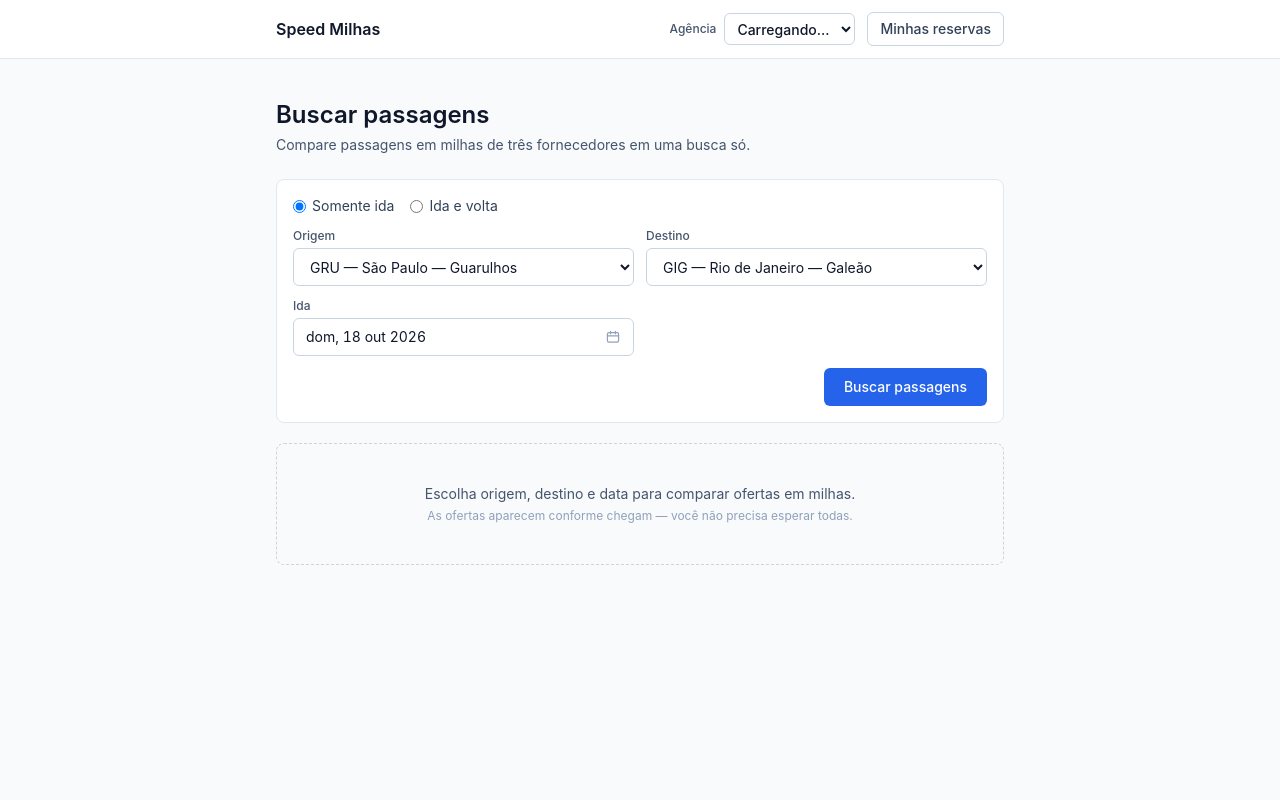
it: E2E - Busca de passagens › deve exibir o campo de volta ao selecionar ida e volta
// Seleciona a opção de viagem de ida e volta
Step 1. Check the radio button labelled "Ida e volta" → [418, 207], box [411,200,424,213]
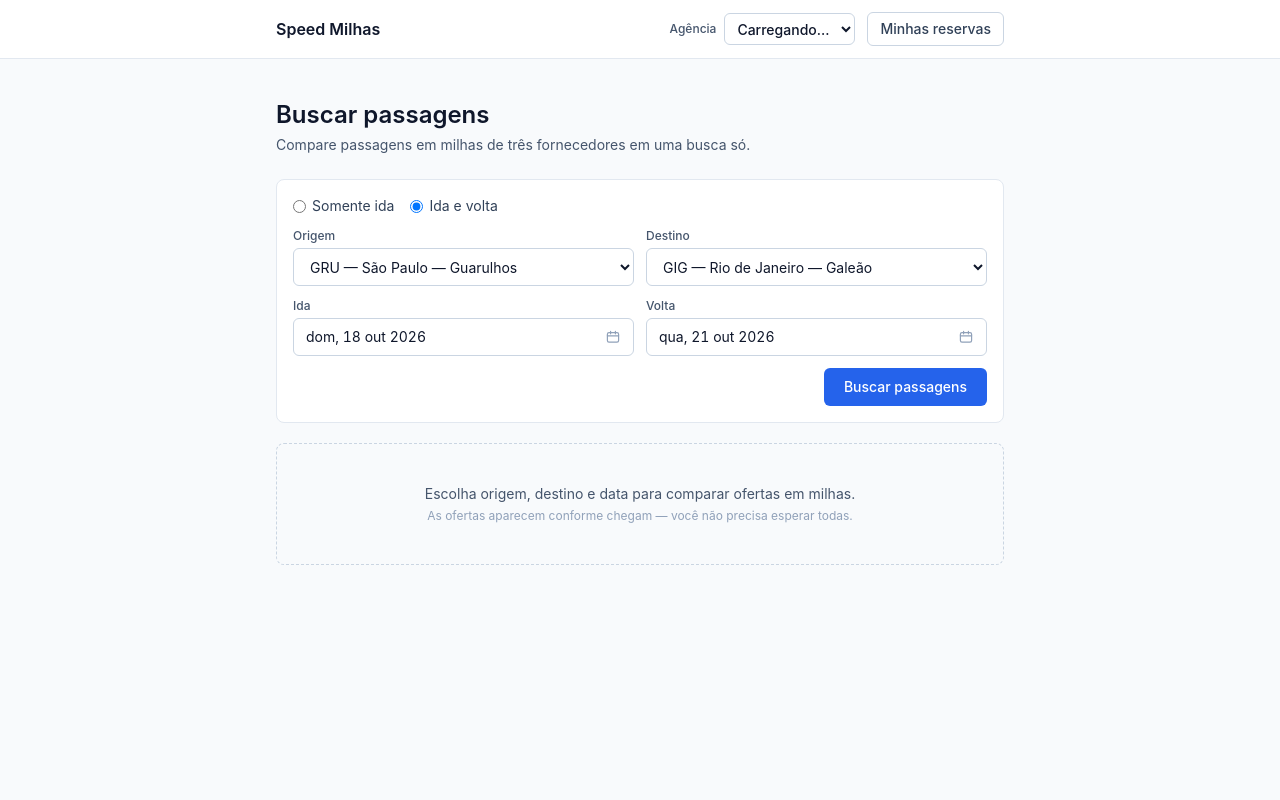
expect the text "Volta" is shown: met, box [646,298,675,313]
